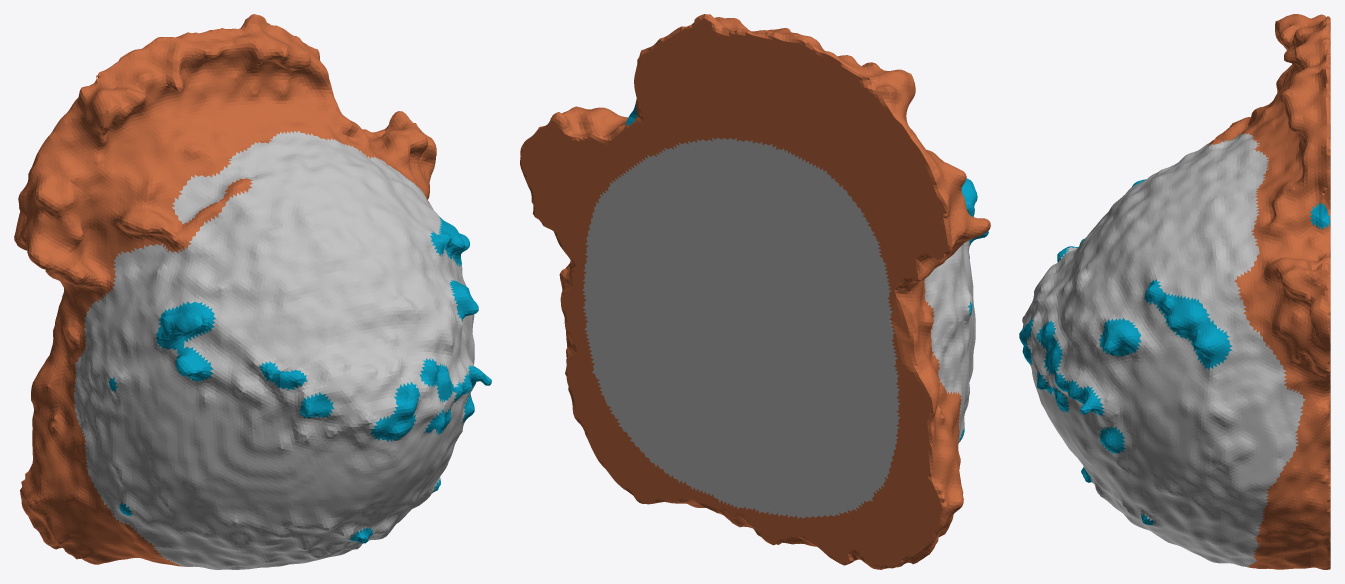
The picture shows the model from 3 angles, left to right: view 1: azimuth 30°, elevation 25°; view 2: azimuth 150°, elevation 25°; view 3: azimuth 270°, elevation 25°; orthographic projection. The views are drawn at different scales.
Size of the model in its own units: 106 by 120 by 69.33.
